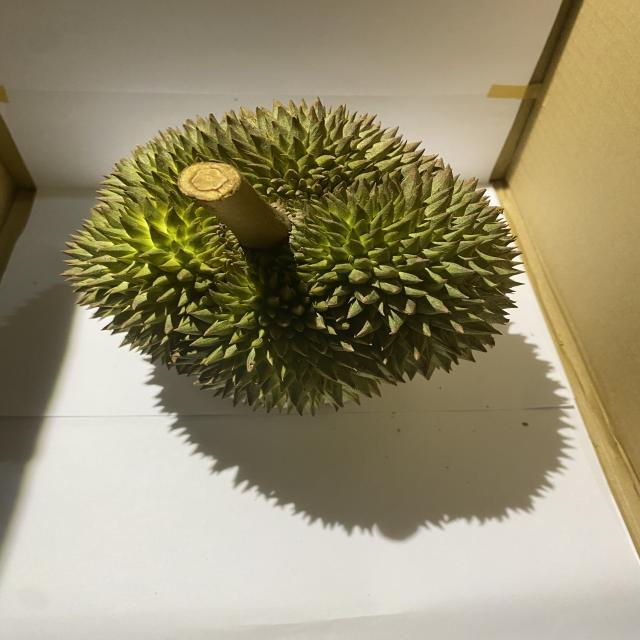immature: (69, 96, 523, 420)
